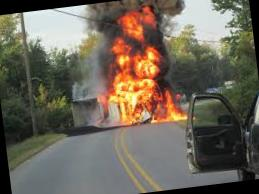Fire: (105, 36, 186, 127)
Smoke: (78, 0, 185, 69)
